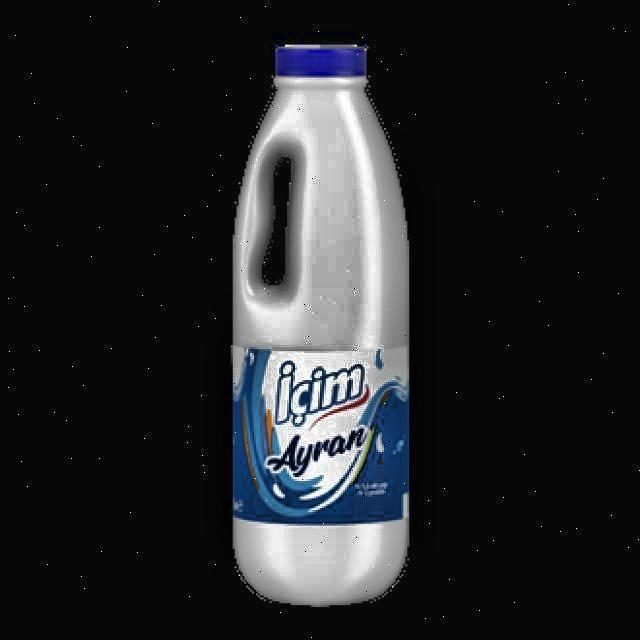plastic: (231, 44, 411, 613)
